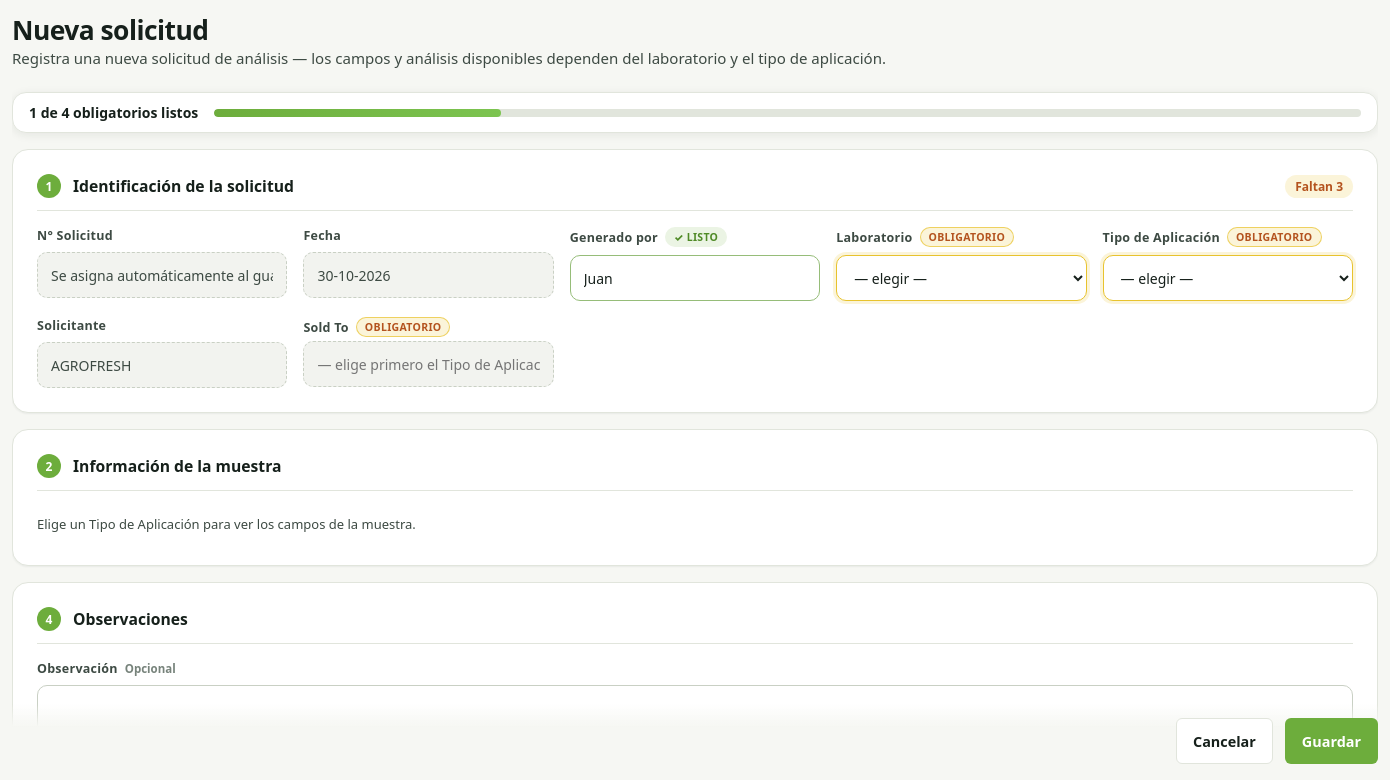
it: NuevaSolicitudView — RYD de AgroFresh › en Actimist Posición Muestreo es texto libre y no obligatorio
Select "Actimist" in the dropdown labelled "Tipo de Aplicación" at point(1228, 278), box [1103,255,1353,301]
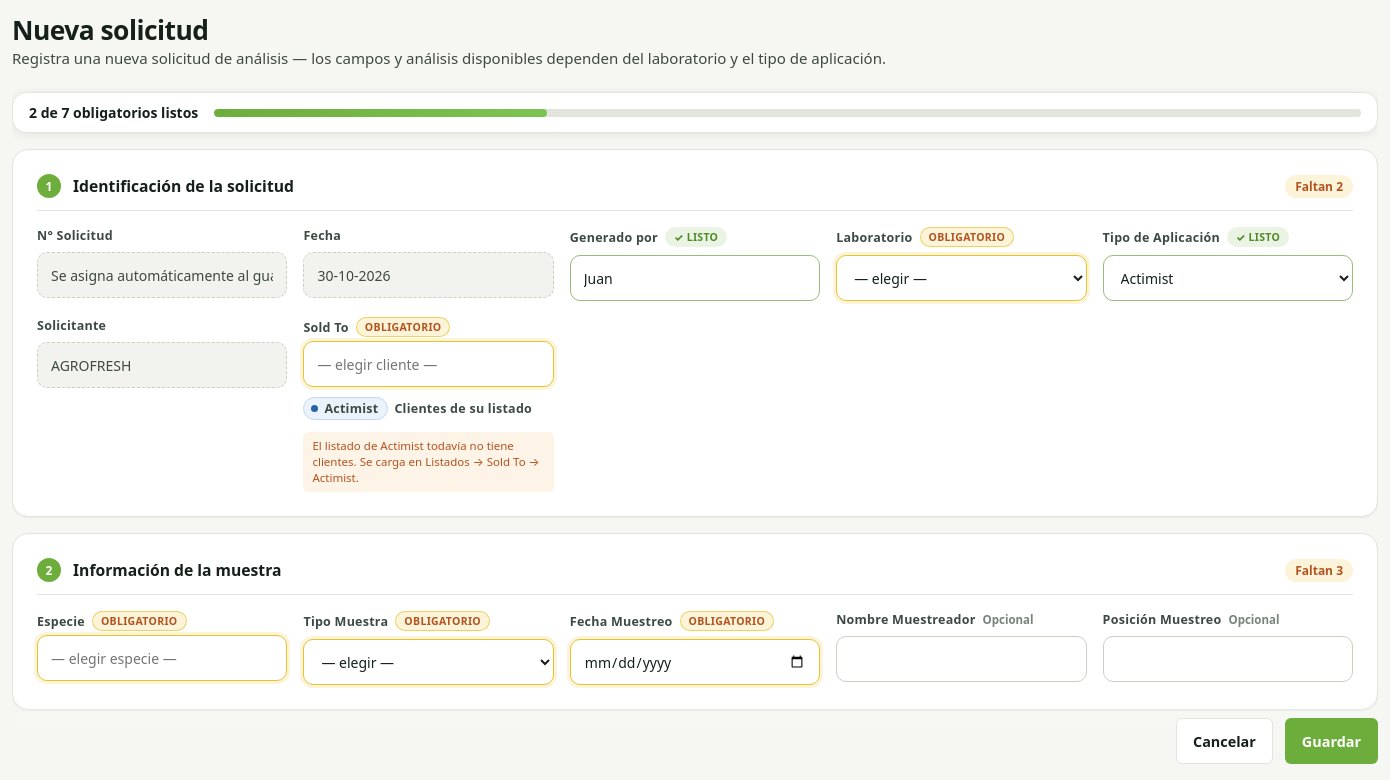
Expected: the text "Posición Muestreo" is shown, [1103,611,1222,628]
